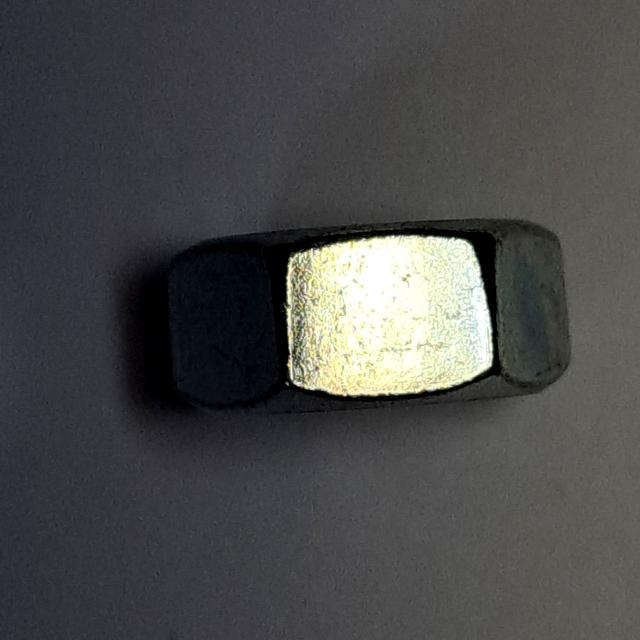Side_Excellent: (151, 192, 586, 436)
